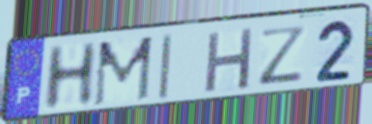2: (311, 15, 360, 87)
H: (40, 40, 100, 114), (202, 25, 256, 96)
I: (156, 31, 175, 103)
M: (91, 34, 156, 110)
Z: (258, 23, 310, 87)
